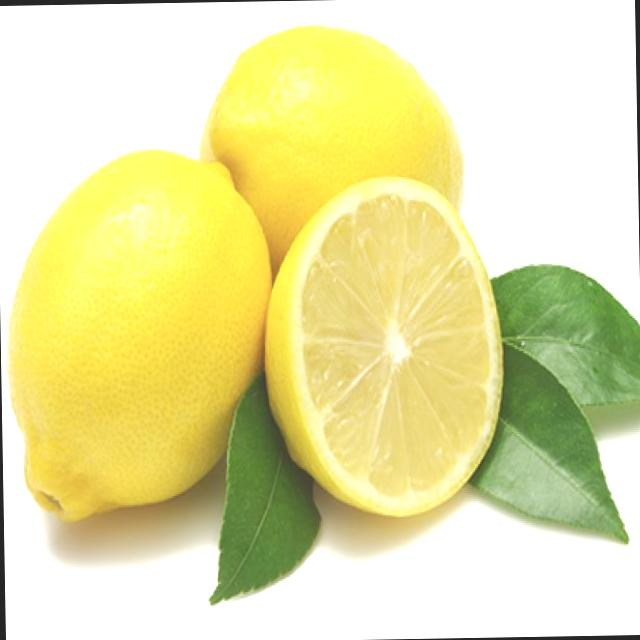lemon: (10, 147, 284, 520), (258, 169, 516, 523), (196, 19, 474, 266)
